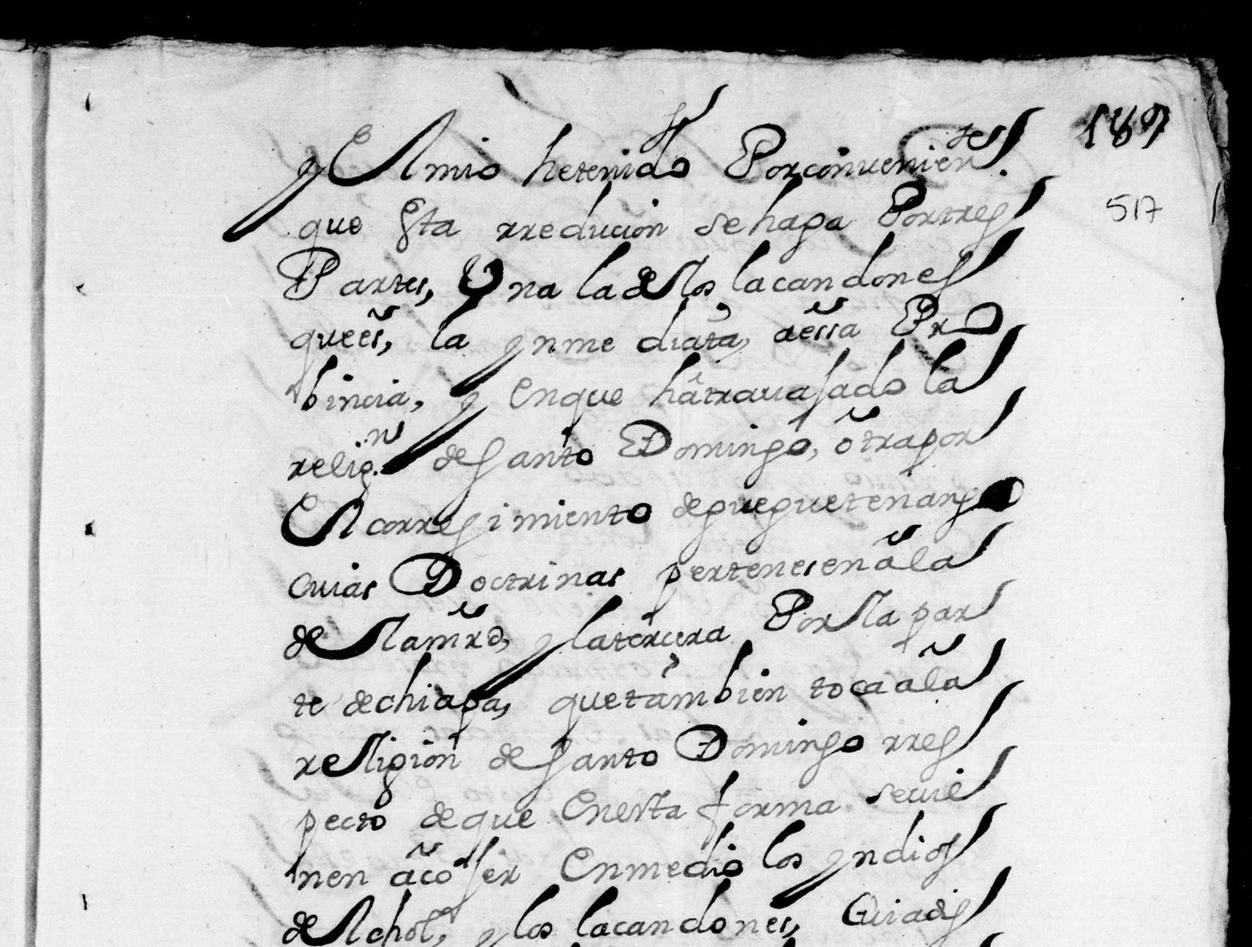lacandon: (577, 877, 792, 938)
